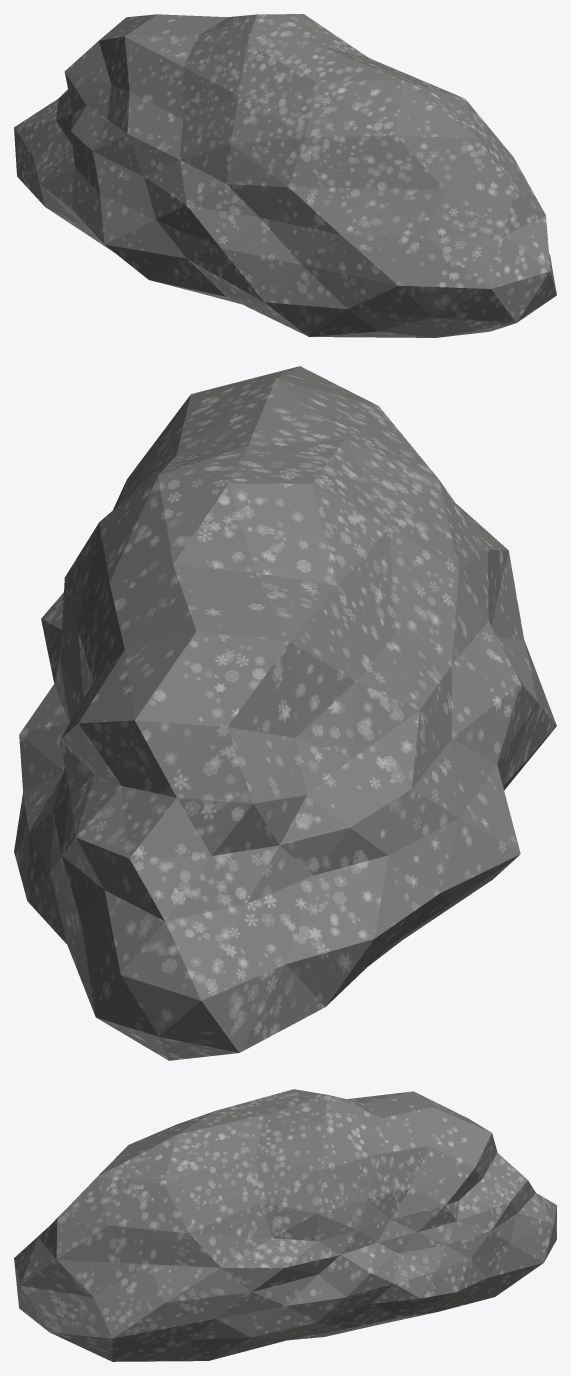
The model's file is Rock_Wide.obj.
The picture shows the model from 3 angles, top to bottom: view 1: azimuth 30°, elevation 25°; view 2: azimuth 150°, elevation 25°; view 3: azimuth 270°, elevation 25°; orthographic projection. The views are drawn at different scales.
Parts seen in each view (by area): view 1: Rock_Wide; view 2: Rock_Wide; view 3: Rock_Wide.
Part boxes in pixels (x1,y1,x2,y2): Rock_Wide: [14, 14, 556, 337]; Rock_Wide: [14, 366, 556, 1060]; Rock_Wide: [14, 1089, 556, 1361].
Size of the model in its own units: 2.96 by 2.13 by 4.75.
Materials: 1 (1 with a texture image).
